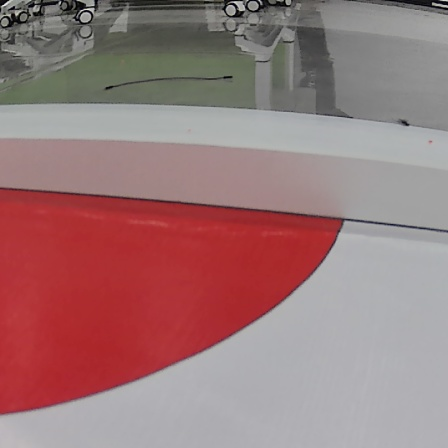red_base: (1, 175, 347, 416)
